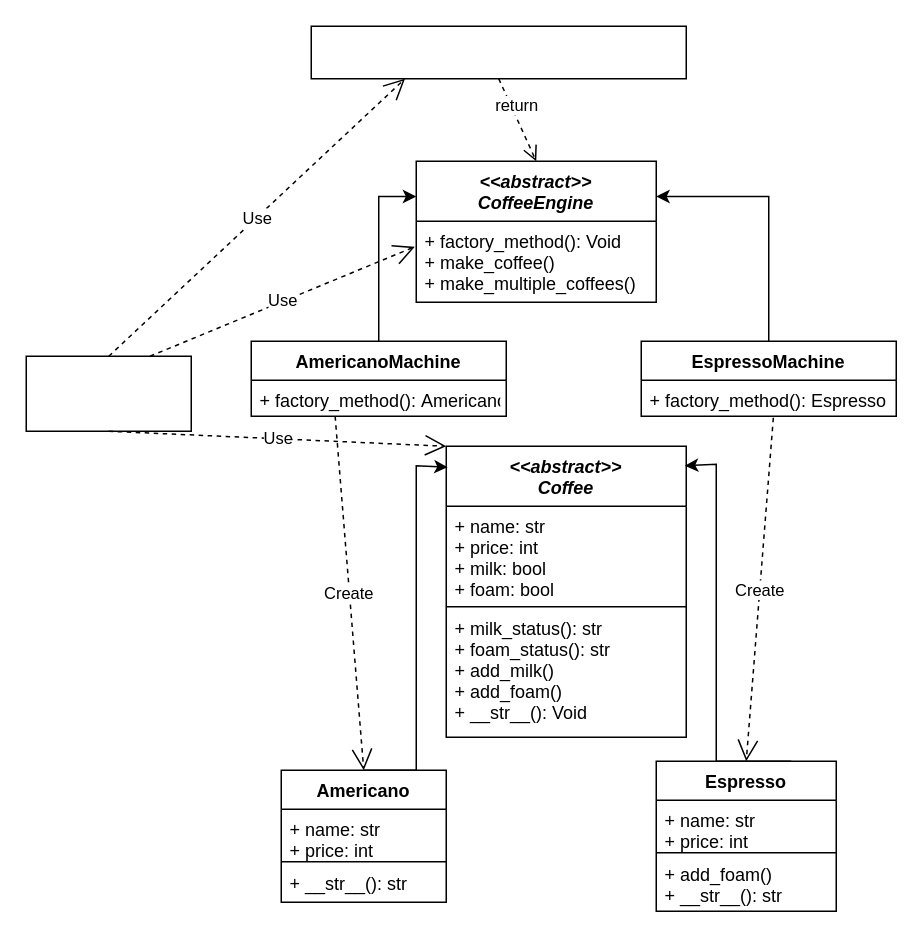
Some shapes in this 923 by 942 pixel diagram are drawn without their labels. The shapes that lost their labels are listed below. From the top down, each one's centre as x and y in pixels, then its label:
At pixel 498 52: "def choose_coffee_machine(): CoffeeEngine".
At pixel 108 393: "Client".
